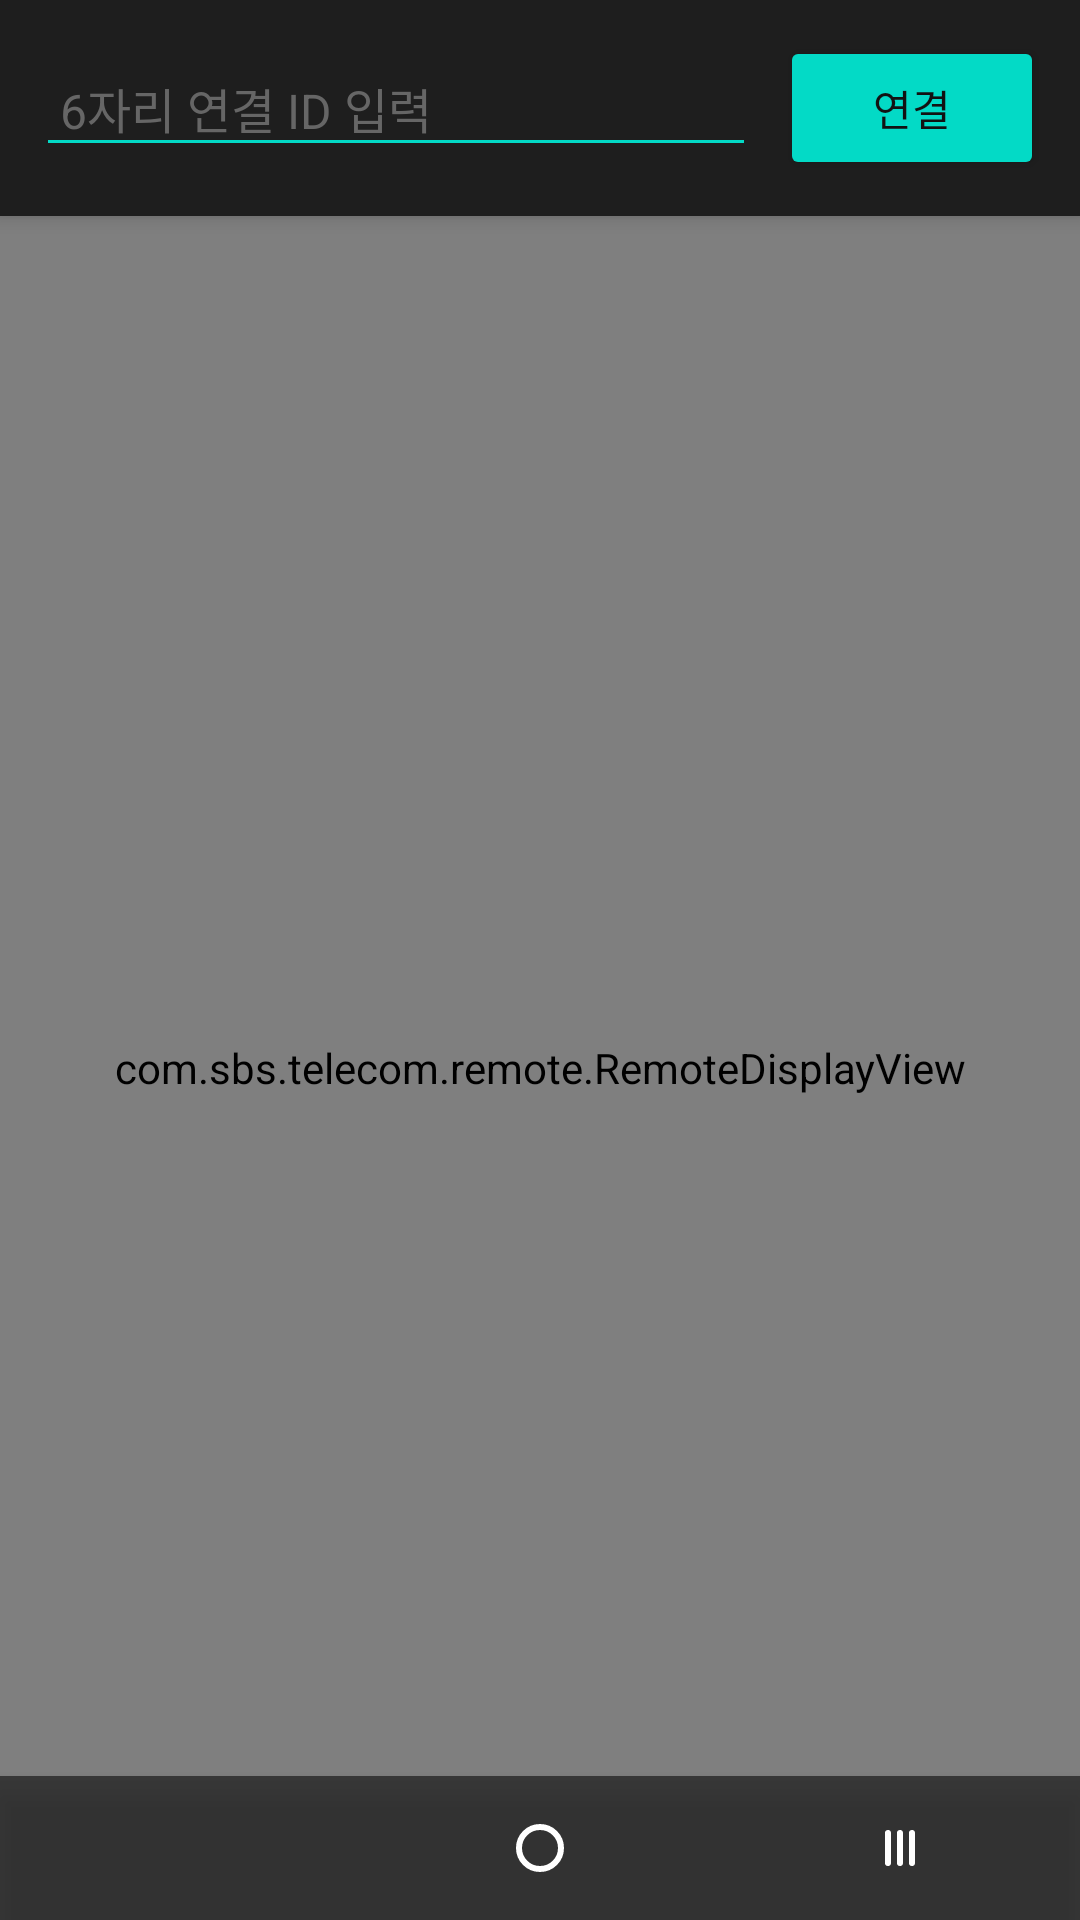

Icons on this 1080px×1920px Android screen, each with the point to tap as (x,y):
home: (540,1848)
최근 앱: (900,1848)
